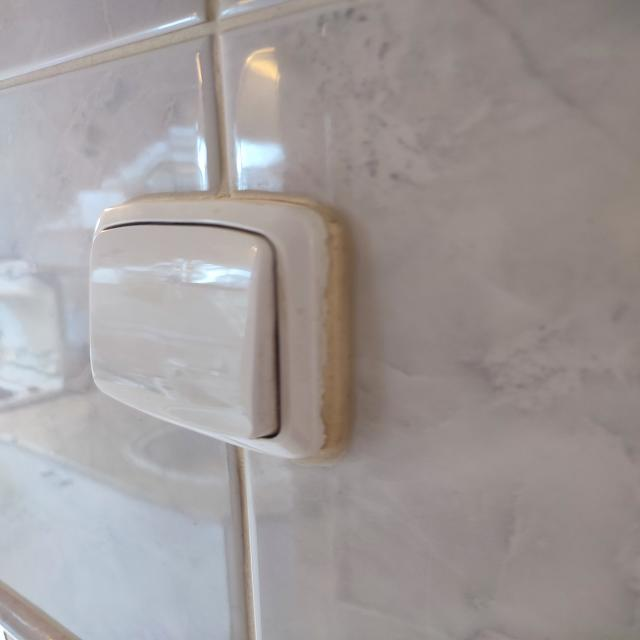house switch: (88, 197, 345, 461)
